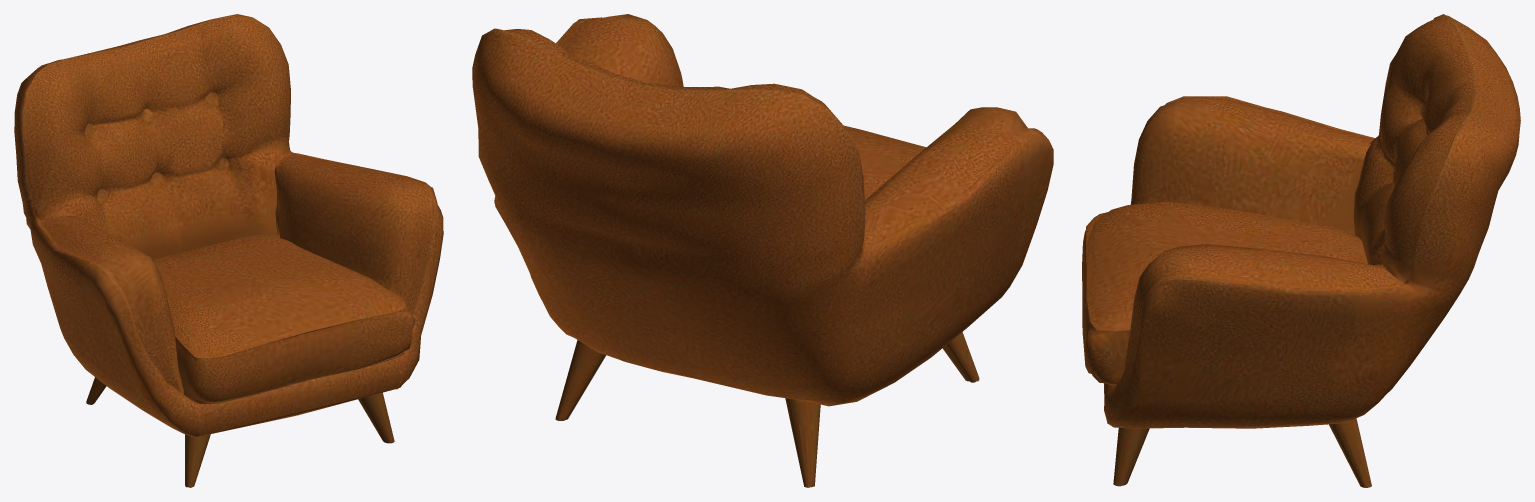
Rendered from armchair_red__1.glb.
3 views of the same model, side by side, from view 1: azimuth 30°, elevation 25°; view 2: azimuth 150°, elevation 25°; view 3: azimuth 270°, elevation 25° (orthographic). The views are drawn at different scales.
Visible parts, largest first — view 1: Mesh_0.046; view 2: Mesh_0.046; view 3: Mesh_0.046.
Part boxes in pixels (x1=…): Mesh_0.046: x1=14, y1=14, x2=443, y2=487; Mesh_0.046: x1=472, y1=14, x2=1053, y2=487; Mesh_0.046: x1=1082, y1=14, x2=1520, y2=487.
Size of the model in its own units: 0.9626 by 0.86 by 0.9541.
1 material, 1 textured.
